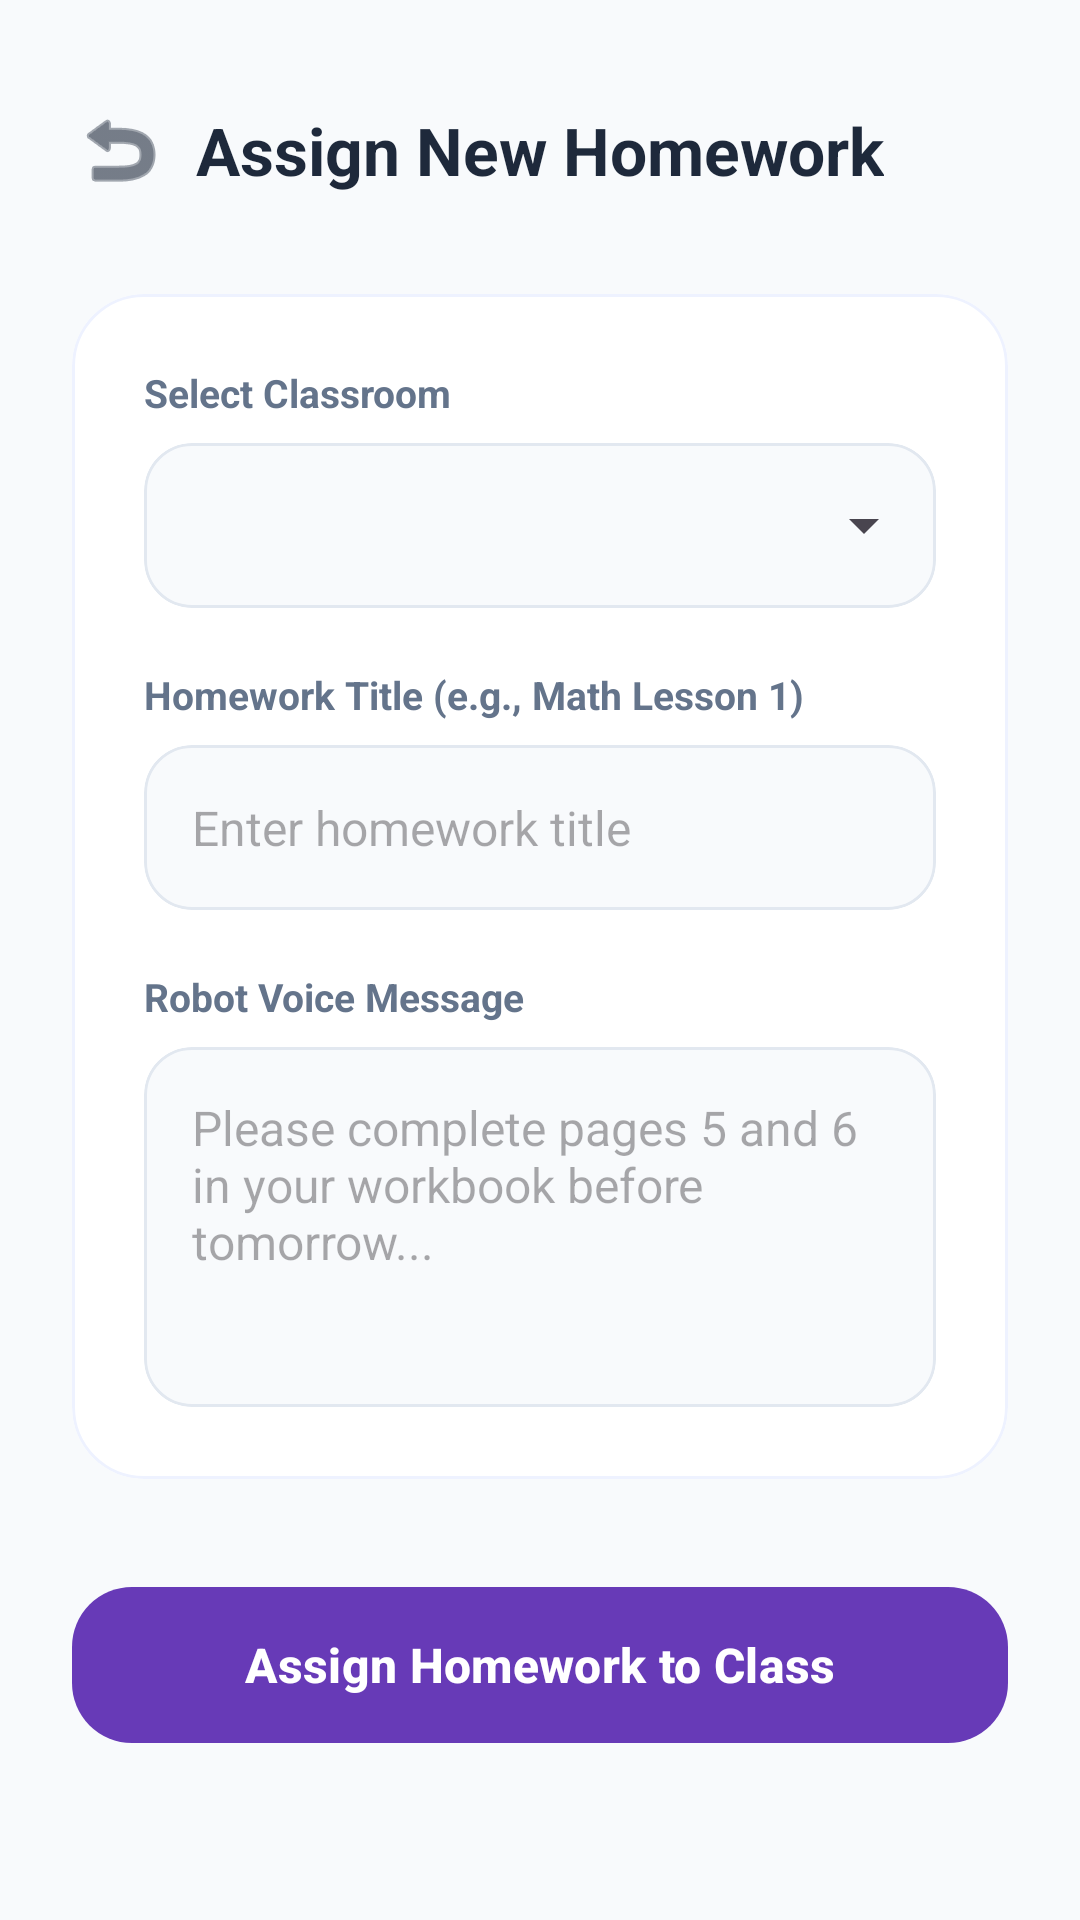

Point at icon controls on the screen. Image size 1080×1920, points as [x,y].
revert: [121,150]
